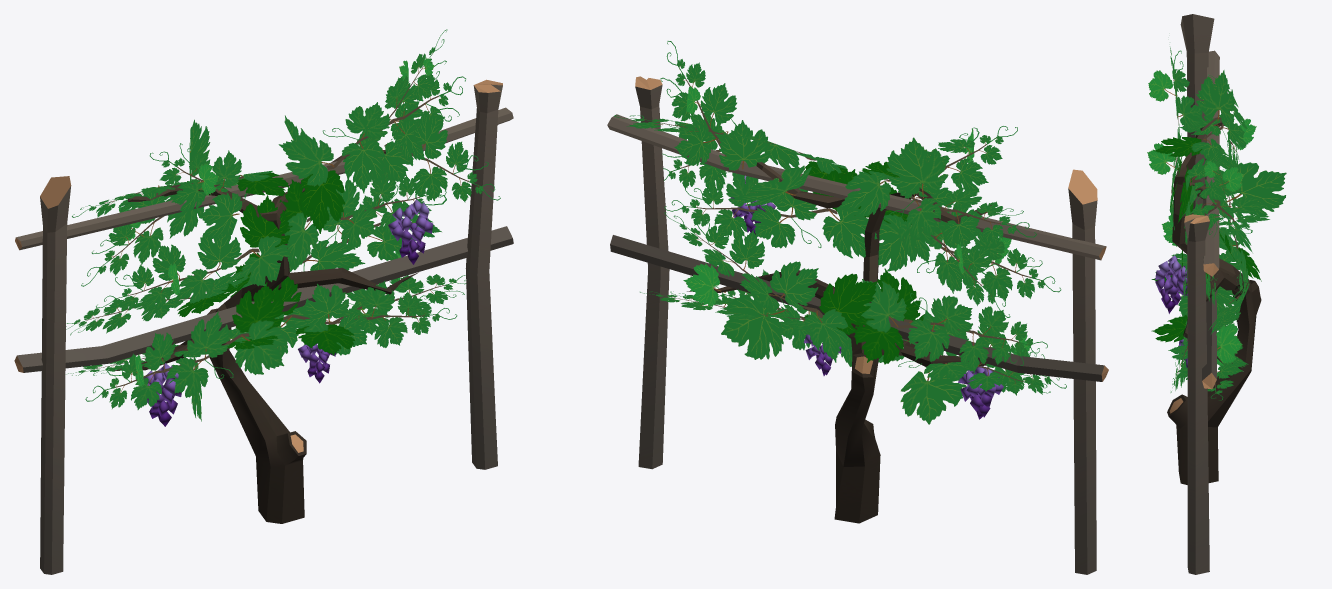
File: PT_Grape_Vine_01.fbx
3 renders of one model, left to right at view 1: azimuth 30°, elevation 25°; view 2: azimuth 150°, elevation 25°; view 3: azimuth 270°, elevation 25°, orthographic. The views are drawn at different scales.
Parts seen in each view (by area): view 1: PT_Grape_Vine_01_LOD0; view 2: PT_Grape_Vine_01_LOD0; view 3: PT_Grape_Vine_01_LOD0.
Boxes of the visible parts, left/top/right/bottom form: PT_Grape_Vine_01_LOD0: left=14, top=29, right=513, bottom=574; PT_Grape_Vine_01_LOD0: left=607, top=41, right=1108, bottom=574; PT_Grape_Vine_01_LOD0: left=1147, top=14, right=1286, bottom=574.
Size of what is drawn, in the model's own units: 276 by 243 by 92.73.
